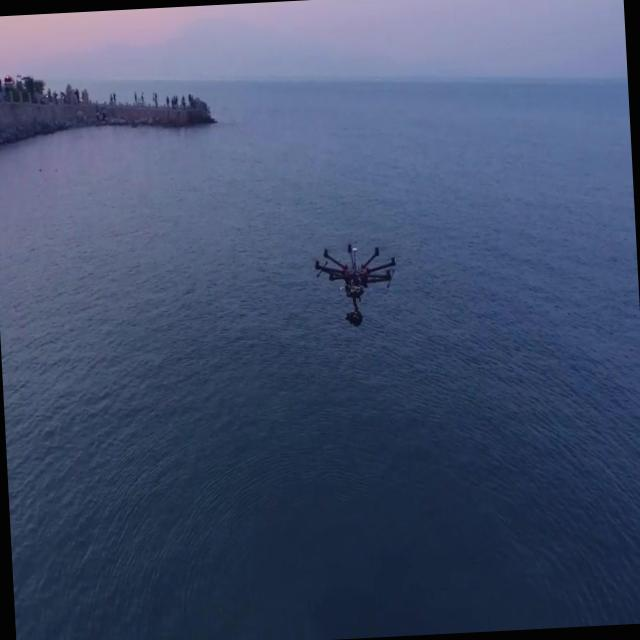drone: (310, 234, 401, 334)
